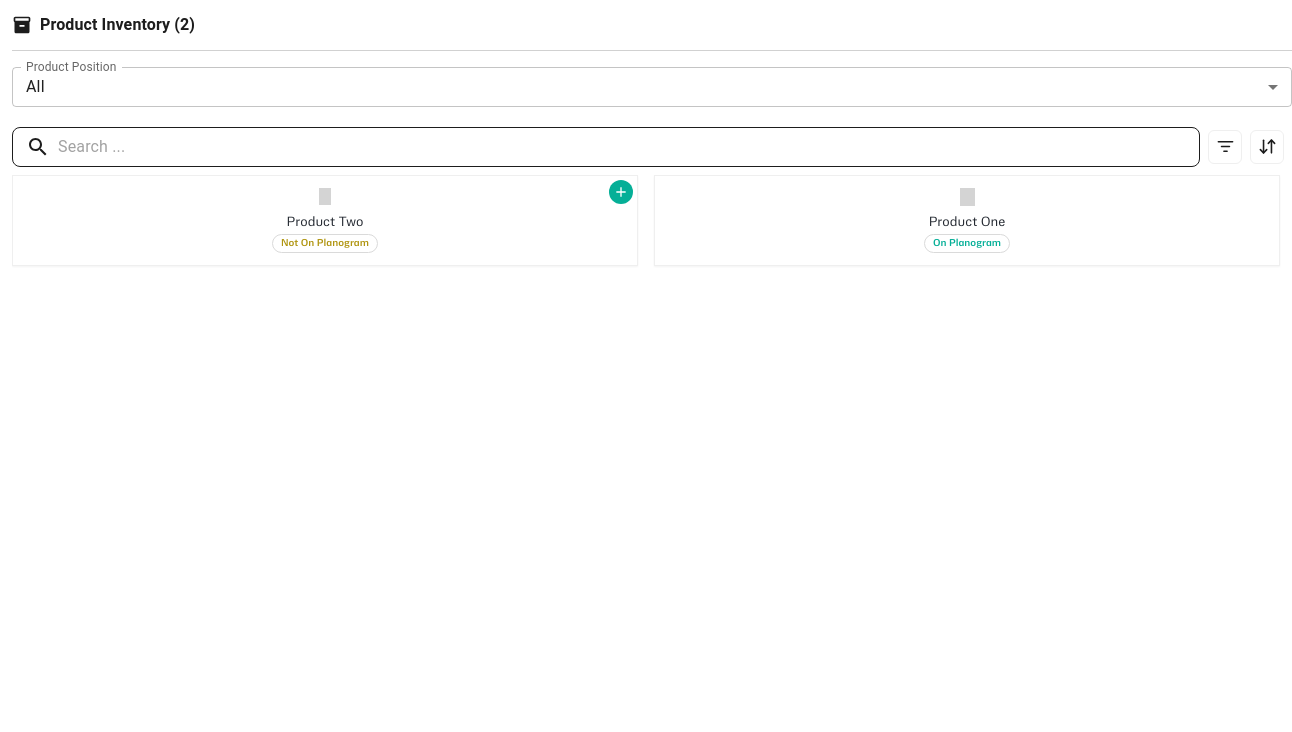
Scenario: ProductInventory › opens and closes filter popover
Click the 1st button at coordinates (1225, 147), box [1208, 130, 1242, 164]
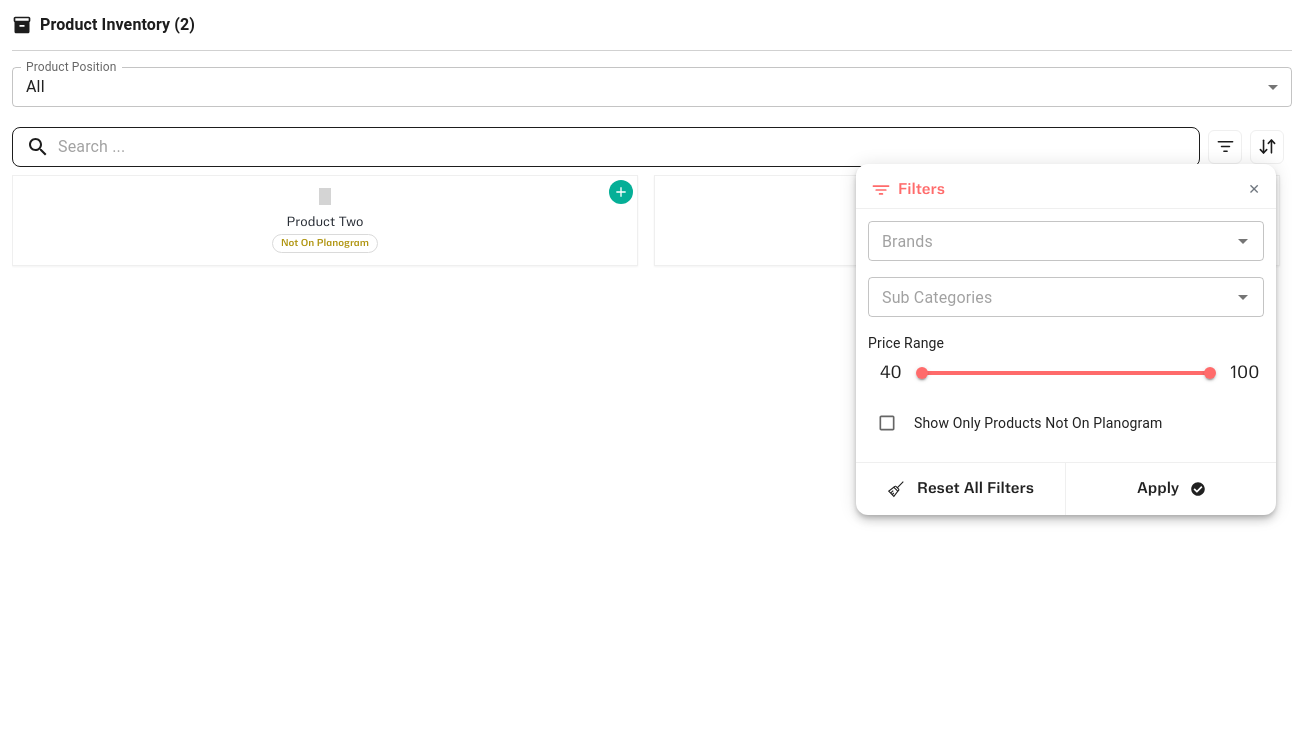
expect the text "Filters" is shown: met, box [898, 180, 945, 200]
Click the button "✕" at coordinates (1254, 190), box [1248, 180, 1260, 200]
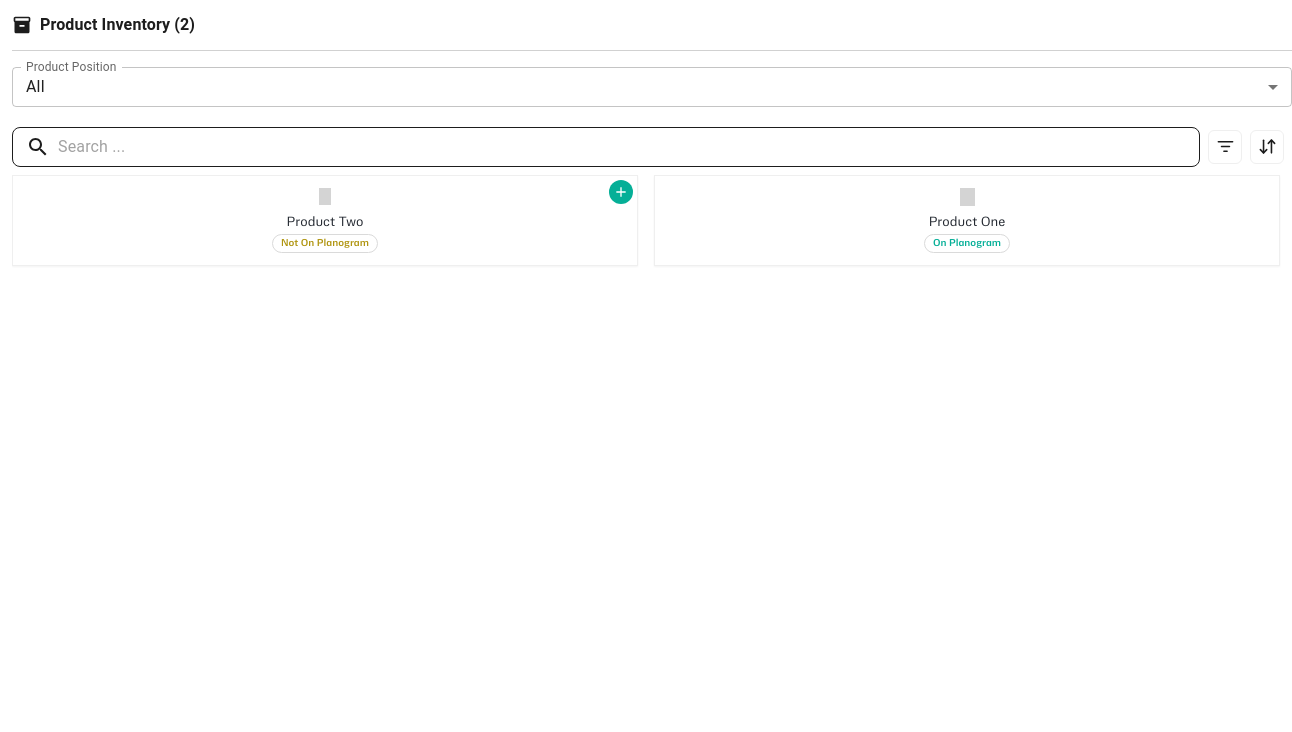
expect the text "Filters" is gone: met
